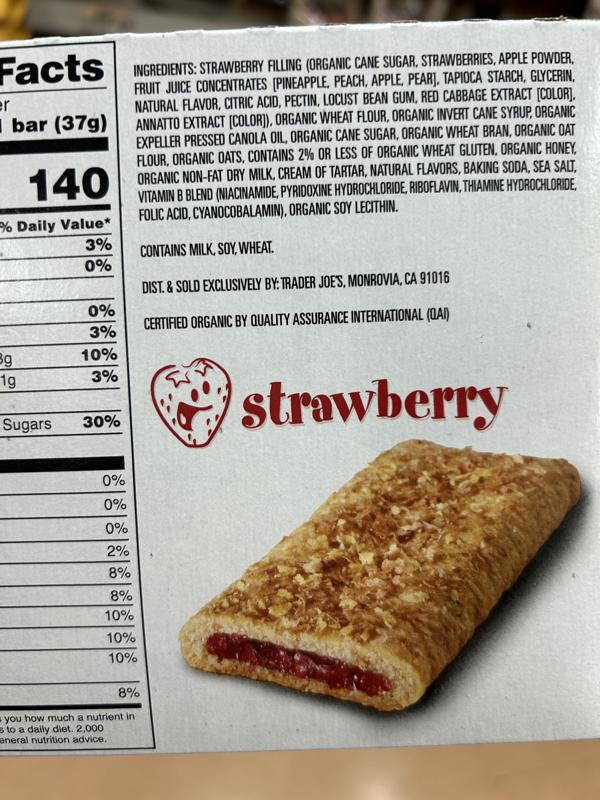ingredients: (130, 48, 582, 225)
